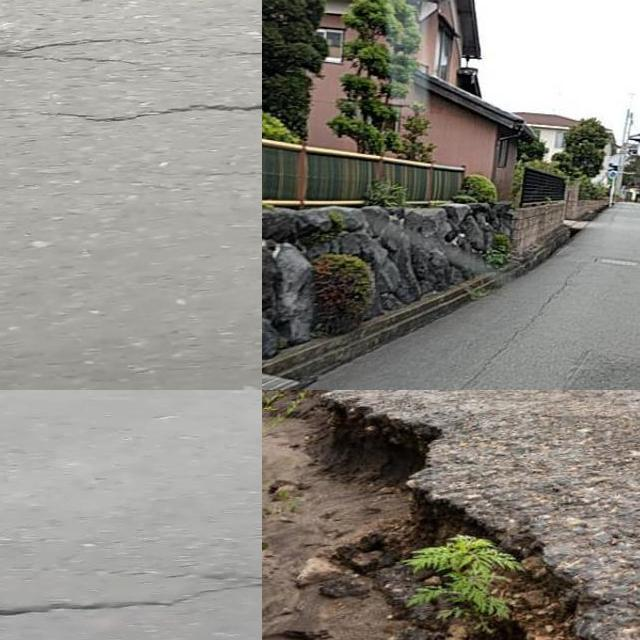Melintang: (0, 570, 262, 631), (70, 93, 262, 131), (0, 24, 150, 71)
Memanjang: (437, 265, 590, 390)
Pinggir: (262, 390, 623, 640)
